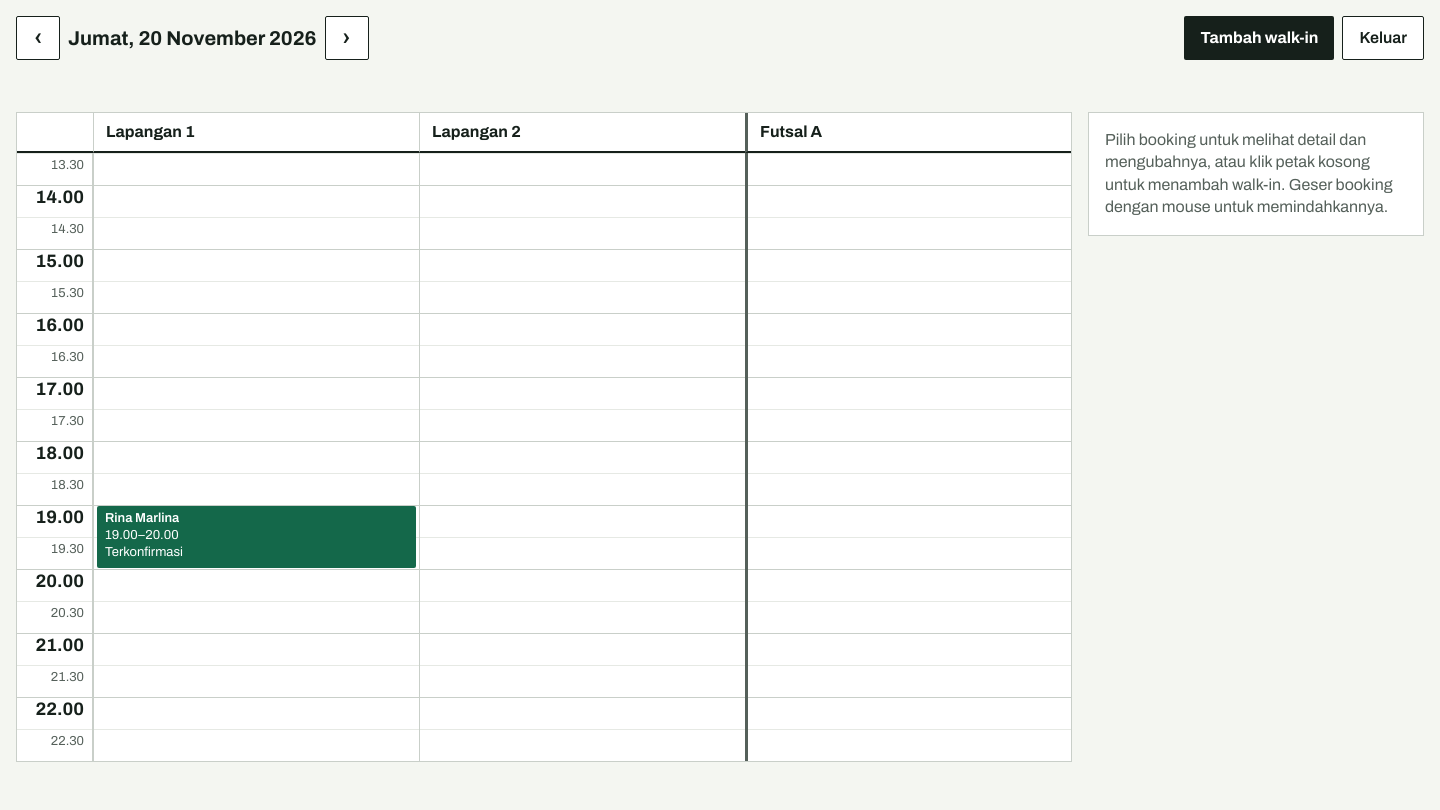
Scenario: OwnerBoard › puts a moved booking back and says why when the API reports a conflict
(page scrolled)
Step 1. Click the button "Rina Marlina 19.00–20.00 Terkonfirmasi" → [142, 518], box [97,506,416,568]
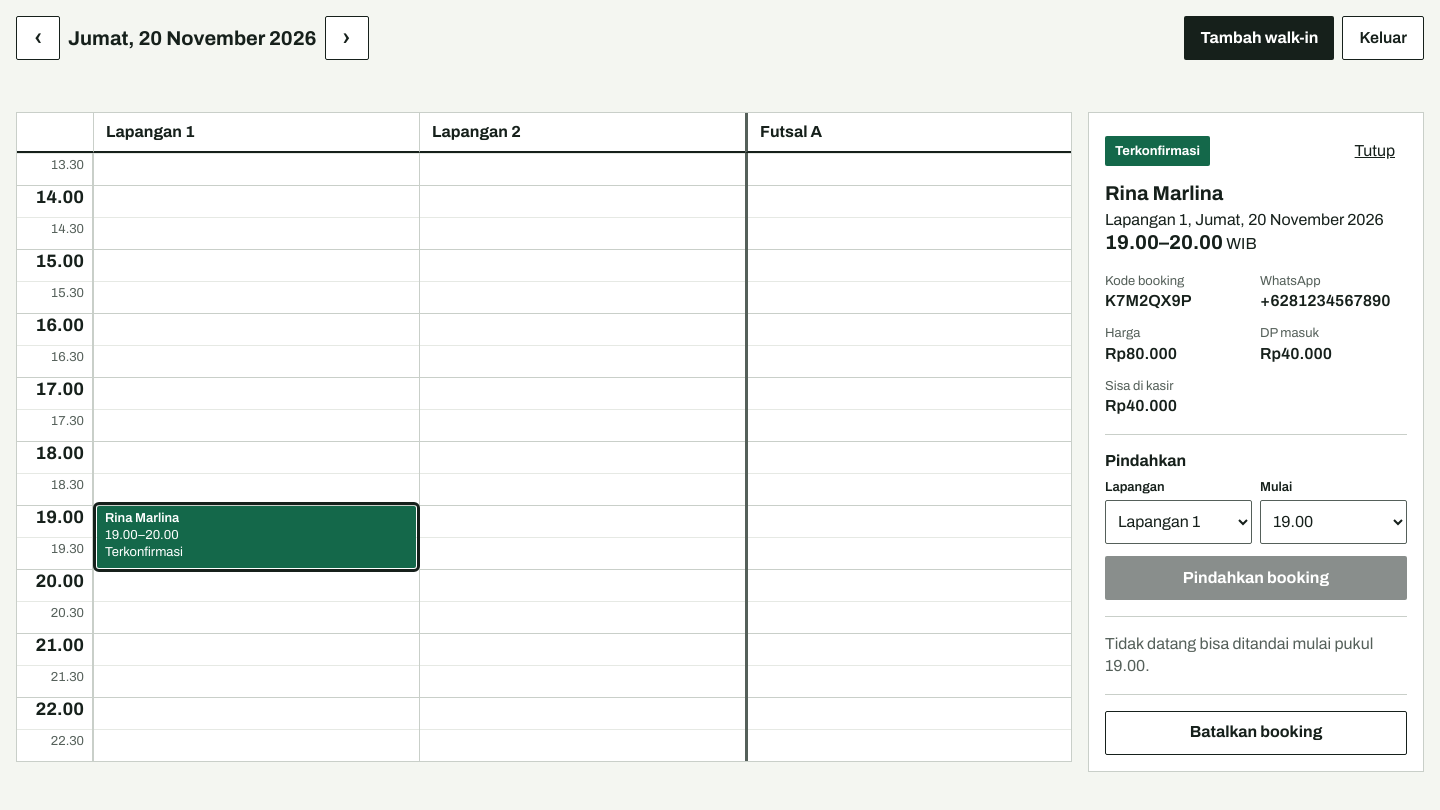
Step 2. Select "Lapangan 2" in the dropdown labelled "Lapangan" → [1178, 522], box [1105,500,1252,544]
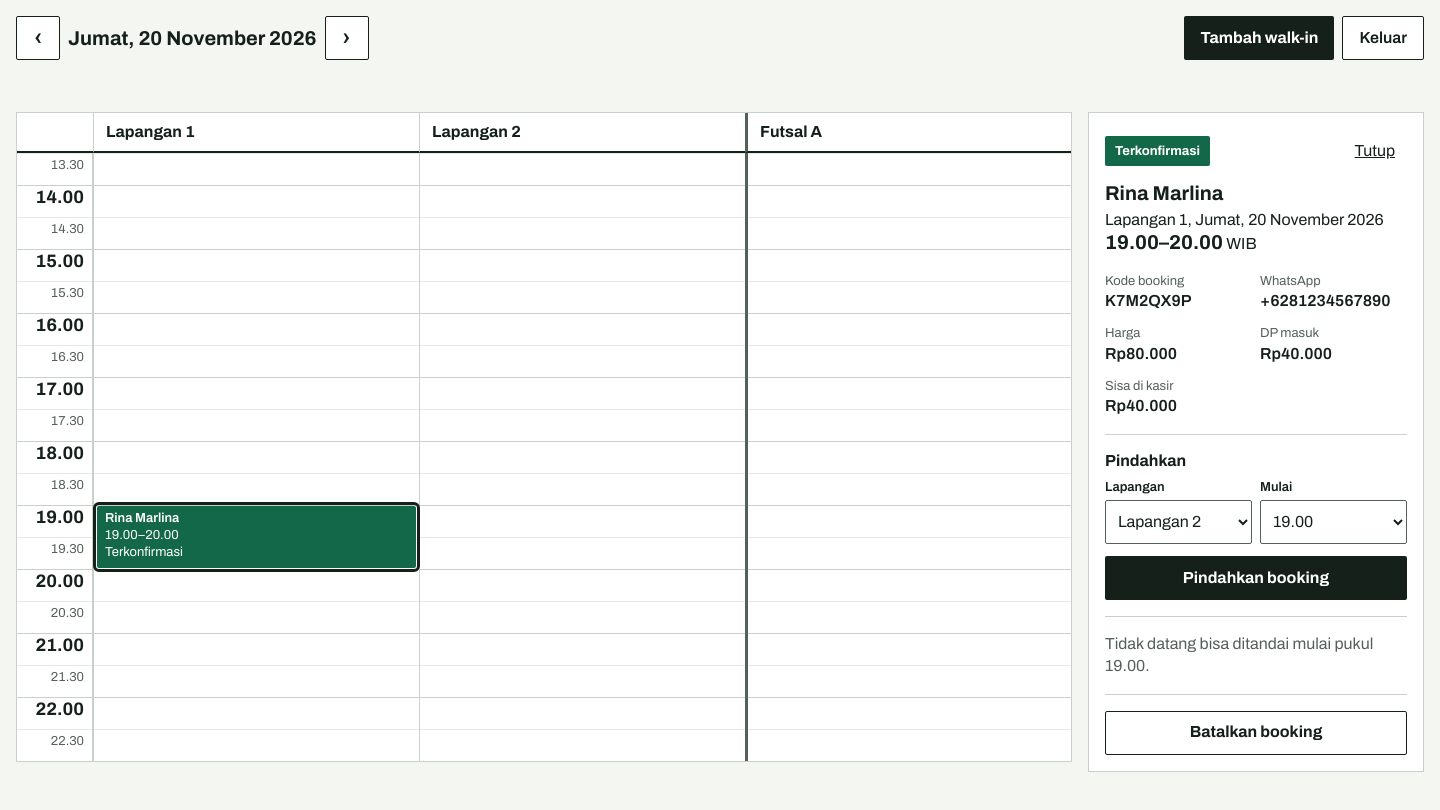
Step 3. Click the button "Pindahkan booking" → [1256, 578], box [1105,556,1407,600]
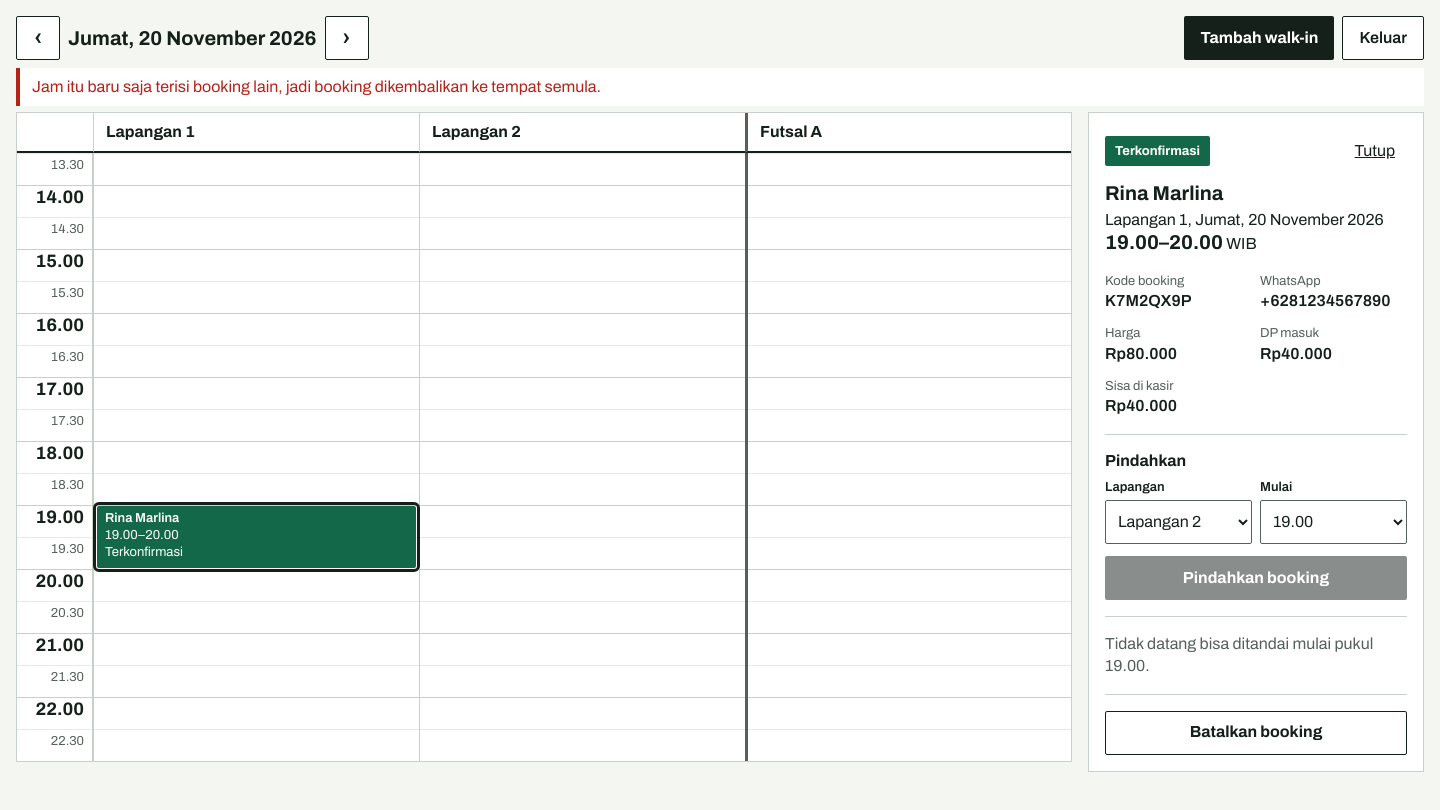
Expected: the text "Rina Marlina" is shown, [105,510,179,527]
Result: the text "baru saja terisi booking lain" is shown at [32,78,601,95]
